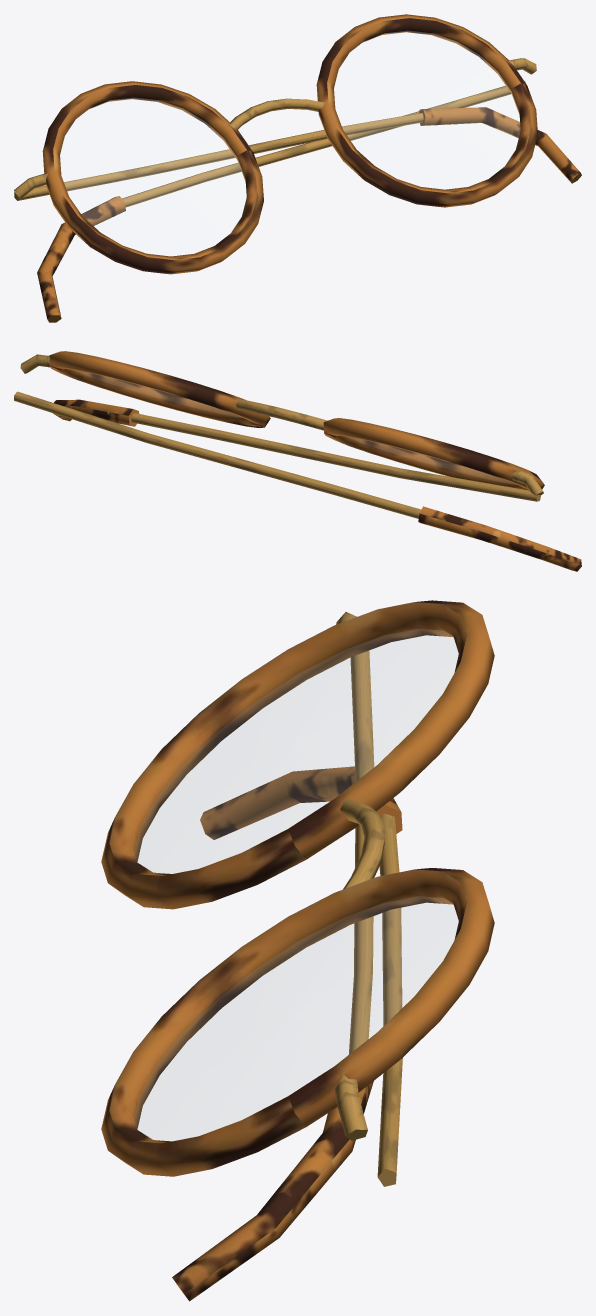
File: glasses.glb
3 renders of one model, top to bottom at view 1: azimuth 30°, elevation 25°; view 2: azimuth 150°, elevation 25°; view 3: azimuth 270°, elevation 25°, orthographic. The views are drawn at different scales.
Parts seen in each view (by area): view 1: glasses_lens, glasses_rims, glasses_frame; view 2: glasses_rims, glasses_frame, glasses_lens; view 3: glasses_rims, glasses_lens, glasses_frame.
Boxes of the visible parts, box(x1,y1,x2,y2) form: glasses_lens: box(60, 31, 519, 255); glasses_rims: box(37, 14, 581, 322); glasses_frame: box(14, 58, 536, 207); glasses_rims: box(49, 351, 581, 571); glasses_frame: box(14, 354, 543, 522); glasses_lens: box(76, 371, 515, 484); glasses_rims: box(101, 600, 494, 1301); glasses_lens: box(134, 629, 458, 1140); glasses_frame: box(335, 612, 402, 1186).
Size of the model in its own units: 1.29 by 0.3735 by 0.4167.
3 materials, 2 textured.
